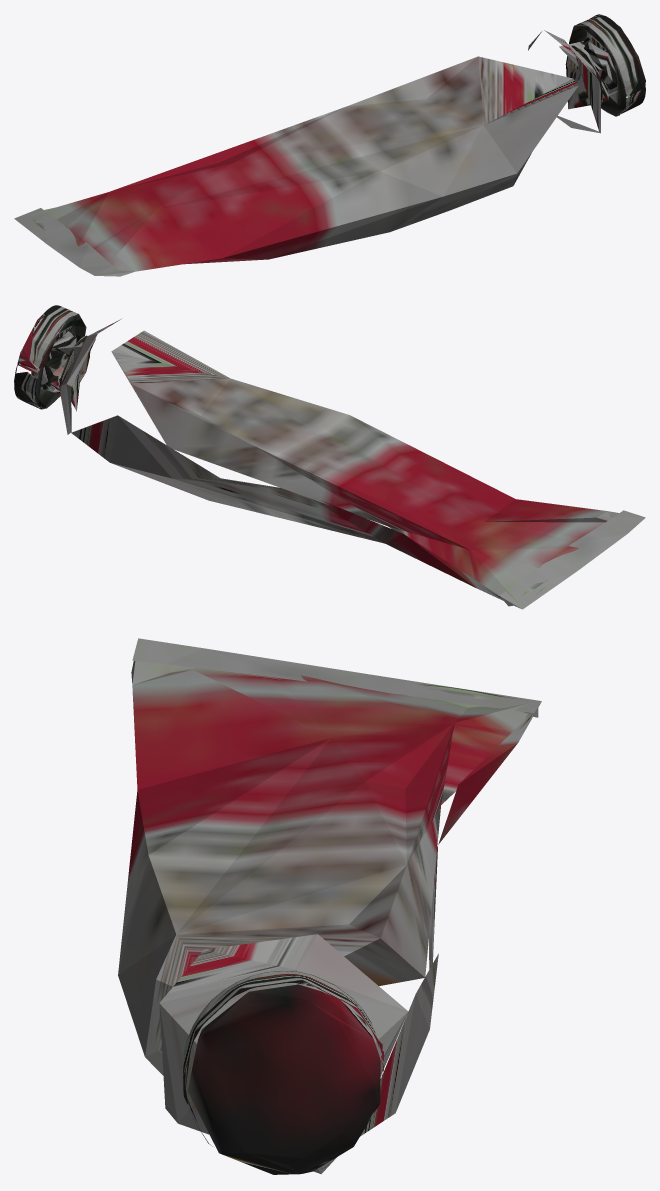
Rendered from paint_container_tube_f01.glb.
The picture shows the model from 3 angles, top to bottom: view 1: azimuth 30°, elevation 25°; view 2: azimuth 150°, elevation 25°; view 3: azimuth 270°, elevation 25°; orthographic projection. The views are drawn at different scales.
Parts seen in each view (by area): view 1: geometry_0; view 2: geometry_0; view 3: geometry_0.
Part boxes in pixels (x1=…): geometry_0: x1=14, y1=14, x2=645, y2=276; geometry_0: x1=14, y1=305, x2=645, y2=609; geometry_0: x1=118, y1=638, x2=541, y2=1174.
Size of the model in its own units: 0.42 by 0.0966 by 0.1355.
1 material, 1 textured.
